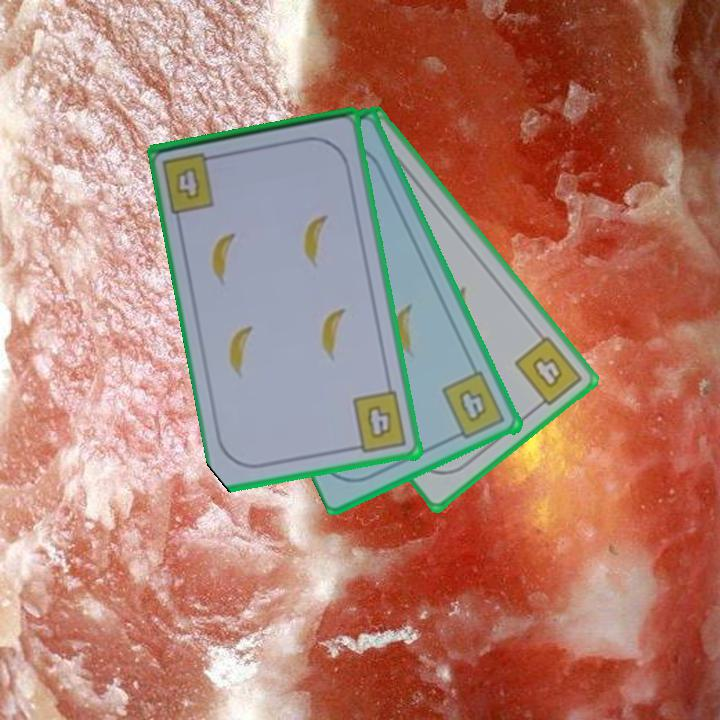4b: (511, 332, 586, 414), (439, 368, 509, 443), (347, 388, 410, 457), (172, 167, 204, 203)
